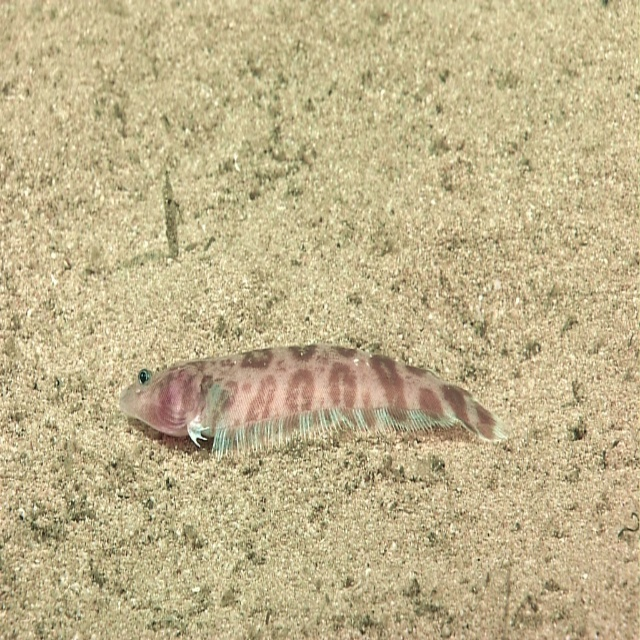Fish: (111, 321, 522, 485)
